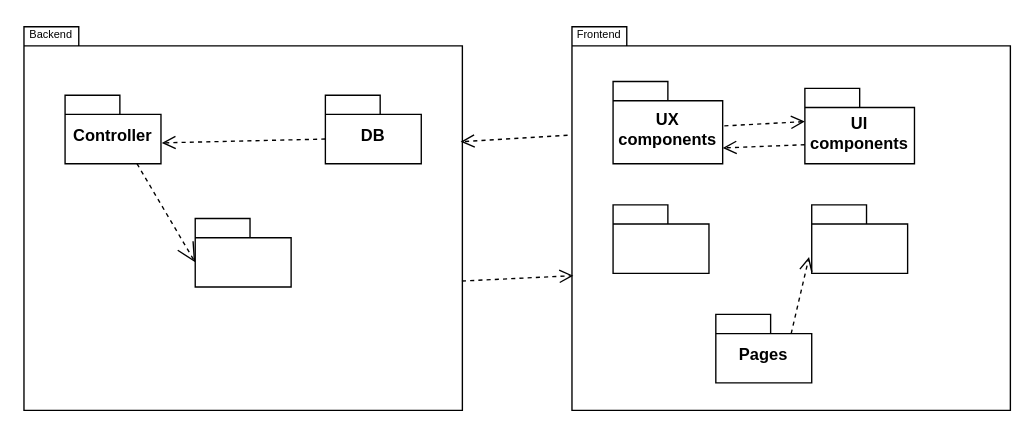
Image size: 1034x434. Some labels were removed from this diagram. Here are the shapes that lost their labels. From the top down, the box of each, then its label:
(194, 217, 291, 287): Routes
(612, 203, 709, 273): Setup proxy
(810, 203, 908, 273): app router
